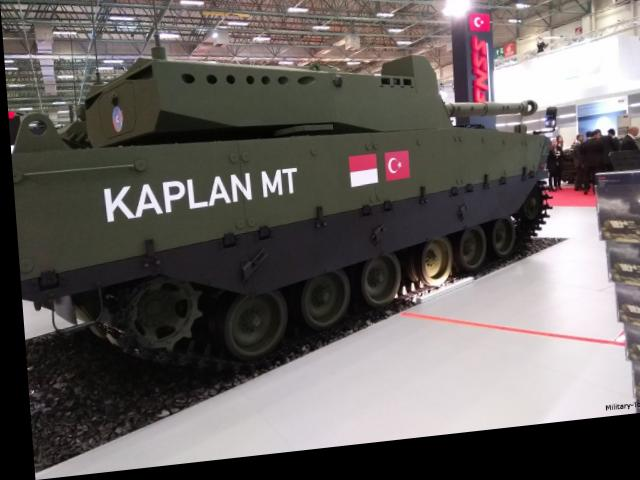tank: (4, 28, 569, 386)
